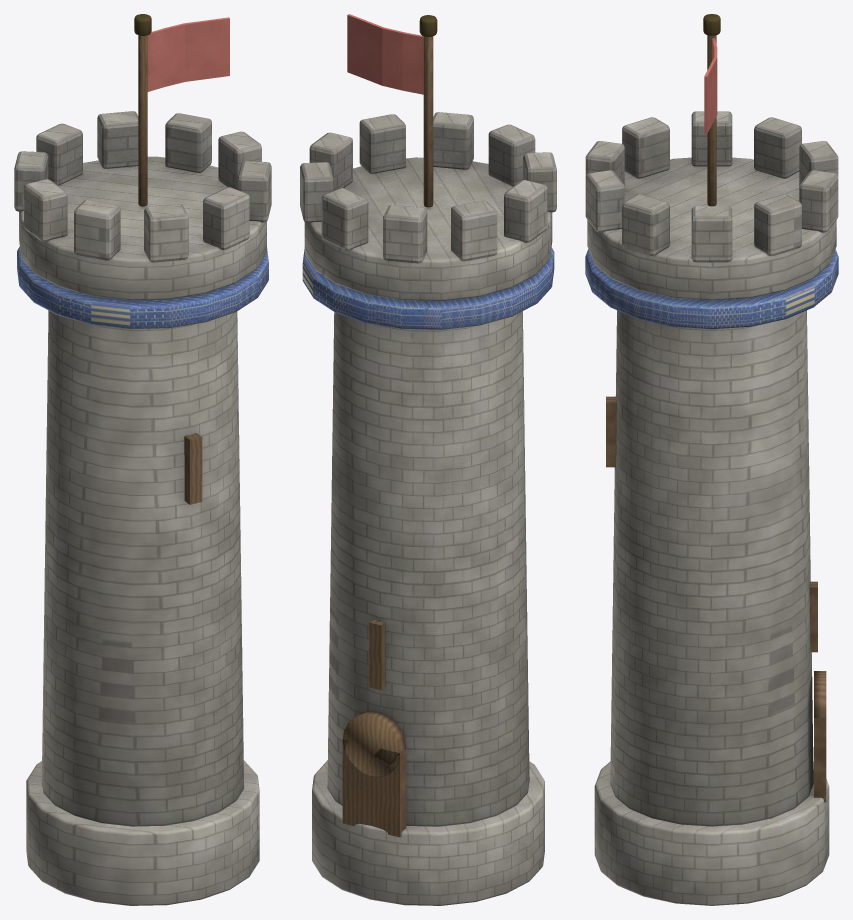
Rendered from tower_turan.glb.
3 renders of one model, left to right at view 1: azimuth 30°, elevation 25°; view 2: azimuth 150°, elevation 25°; view 3: azimuth 270°, elevation 25°, orthographic.
Visible parts, largest first — view 1: tower_turan; view 2: tower_turan; view 3: tower_turan.
Part boxes in pixels (bbox=[...]): tower_turan: bbox=[14, 14, 271, 905]; tower_turan: bbox=[300, 14, 556, 905]; tower_turan: bbox=[585, 14, 838, 905].
Bounding box in the file's own units: 2.5 × 9.09 × 2.48.
1 material, 1 textured.
